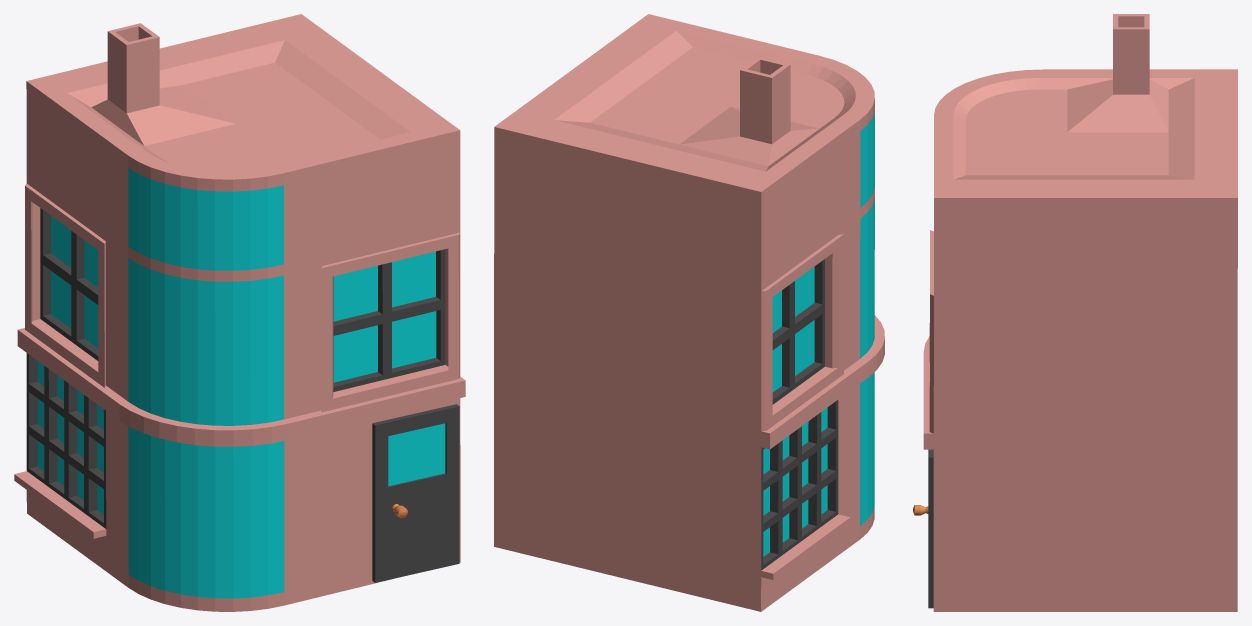
Rendered from Pink curved building.fbx.
3 renders of one model, left to right at view 1: azimuth 30°, elevation 25°; view 2: azimuth 150°, elevation 25°; view 3: azimuth 270°, elevation 25°, orthographic. The views are drawn at different scales.
Visible parts, largest first — view 1: Cube.002, Cube.006; view 2: Cube.002; view 3: Cube.002, Cube.006.
Boxes of the visible parts, left/top/right/bottom form: Cube.002: left=14, top=14, right=465, bottom=611; Cube.006: left=372, top=404, right=459, bottom=582; Cube.002: left=494, top=14, right=884, bottom=611; Cube.002: left=923, top=14, right=1237, bottom=611; Cube.006: left=928, top=449, right=933, bottom=608.
Bounding box in the file's own units: 2090 × 3525 × 2135.
